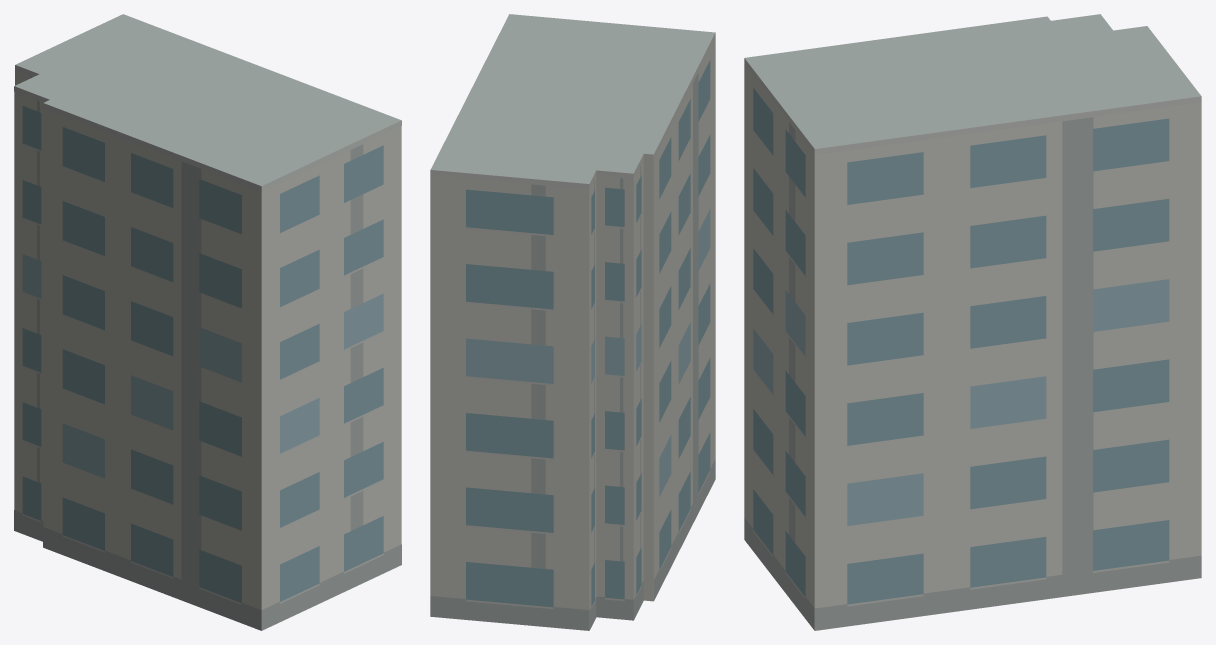
File: survey-upis-32617798.glb
3 views of the same model, side by side, from view 1: azimuth 30°, elevation 25°; view 2: azimuth 150°, elevation 25°; view 3: azimuth 270°, elevation 25° (orthographic). The views are drawn at different scales.
Visible parts, largest first — view 1: survey-upis-32617798.tmp; view 2: survey-upis-32617798.tmp; view 3: survey-upis-32617798.tmp.
Boxes of the visible parts, x1=… form: survey-upis-32617798.tmp: x1=14, y1=14, x2=401, y2=630; survey-upis-32617798.tmp: x1=430, y1=14, x2=715, y2=630; survey-upis-32617798.tmp: x1=744, y1=14, x2=1201, y2=630.
Bounding box in the file's own units: 11.68 × 19.4 × 16.7.
